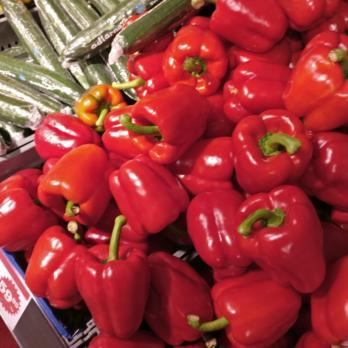Capsicum: (77, 158, 348, 348), (144, 43, 348, 158), (0, 164, 75, 249), (189, 1, 348, 38), (37, 107, 113, 164), (79, 85, 137, 134)
